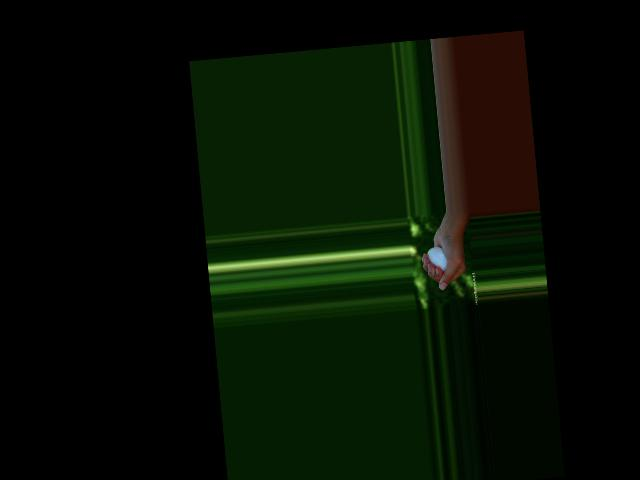egg: (427, 246, 447, 273)
